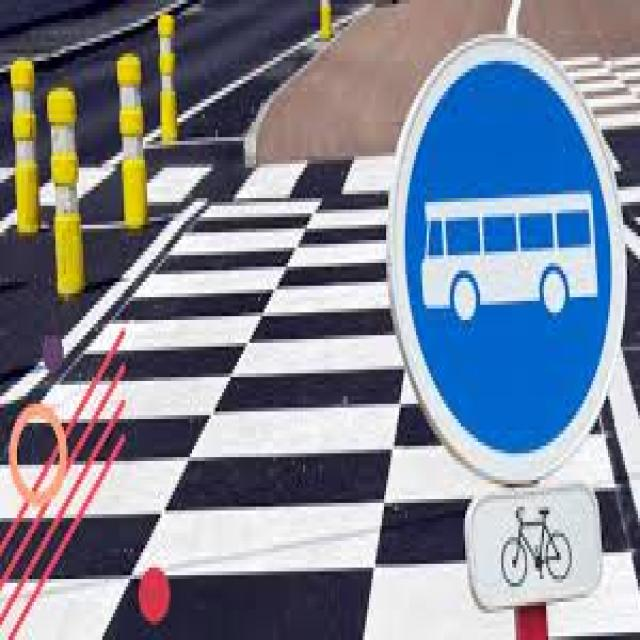ArretBus: (389, 33, 620, 470)
